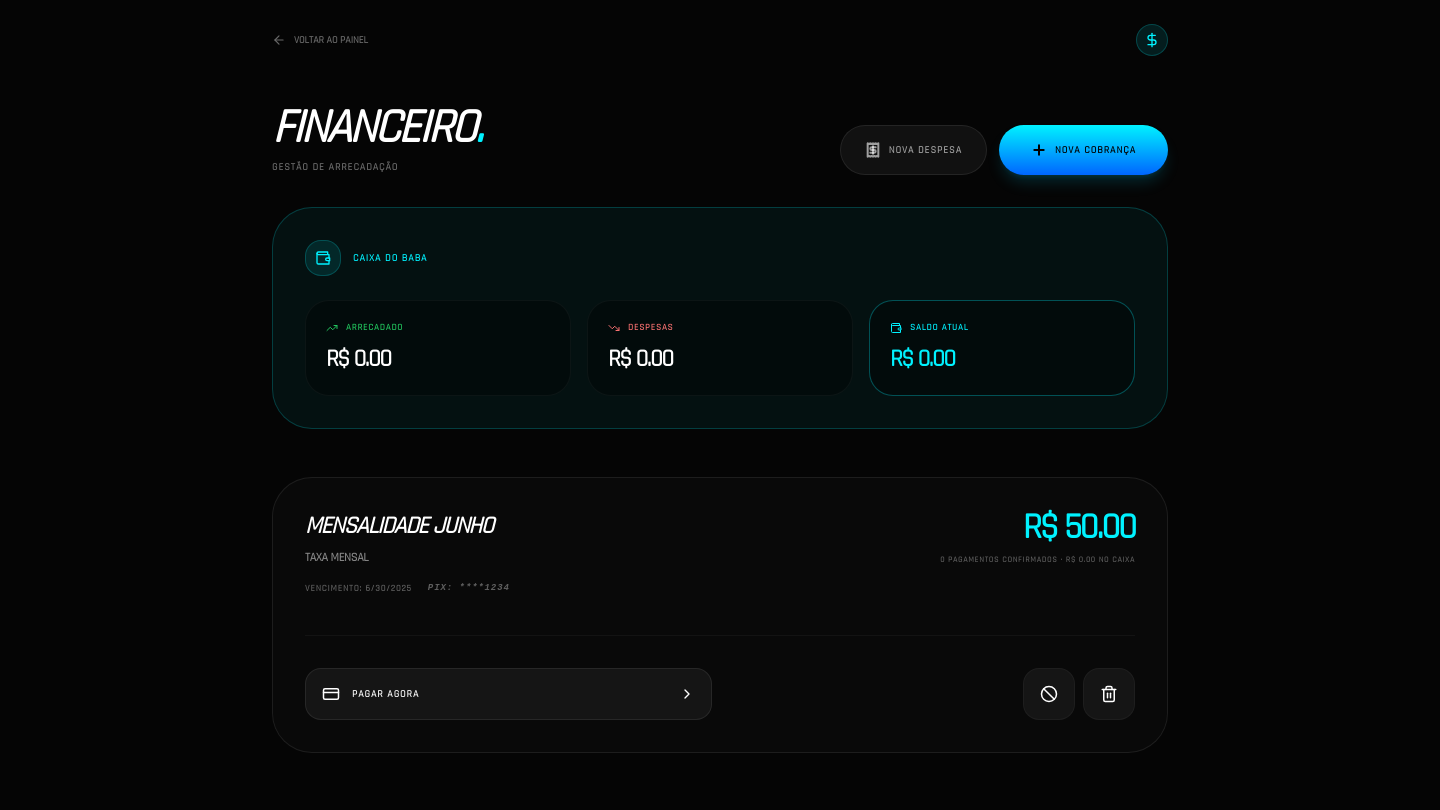
FinancialPage — presidente: excluir cobrança › cancela exclusão ao clicar em Cancelar no modal
The image size is (1440, 810).
Expected: the heading "MENSALIDADE JUNHO" is shown, x1=305 y1=510 x2=493 y2=542
Click the 6th button at (1109, 694), box x1=1083 y1=668 x2=1135 y2=720
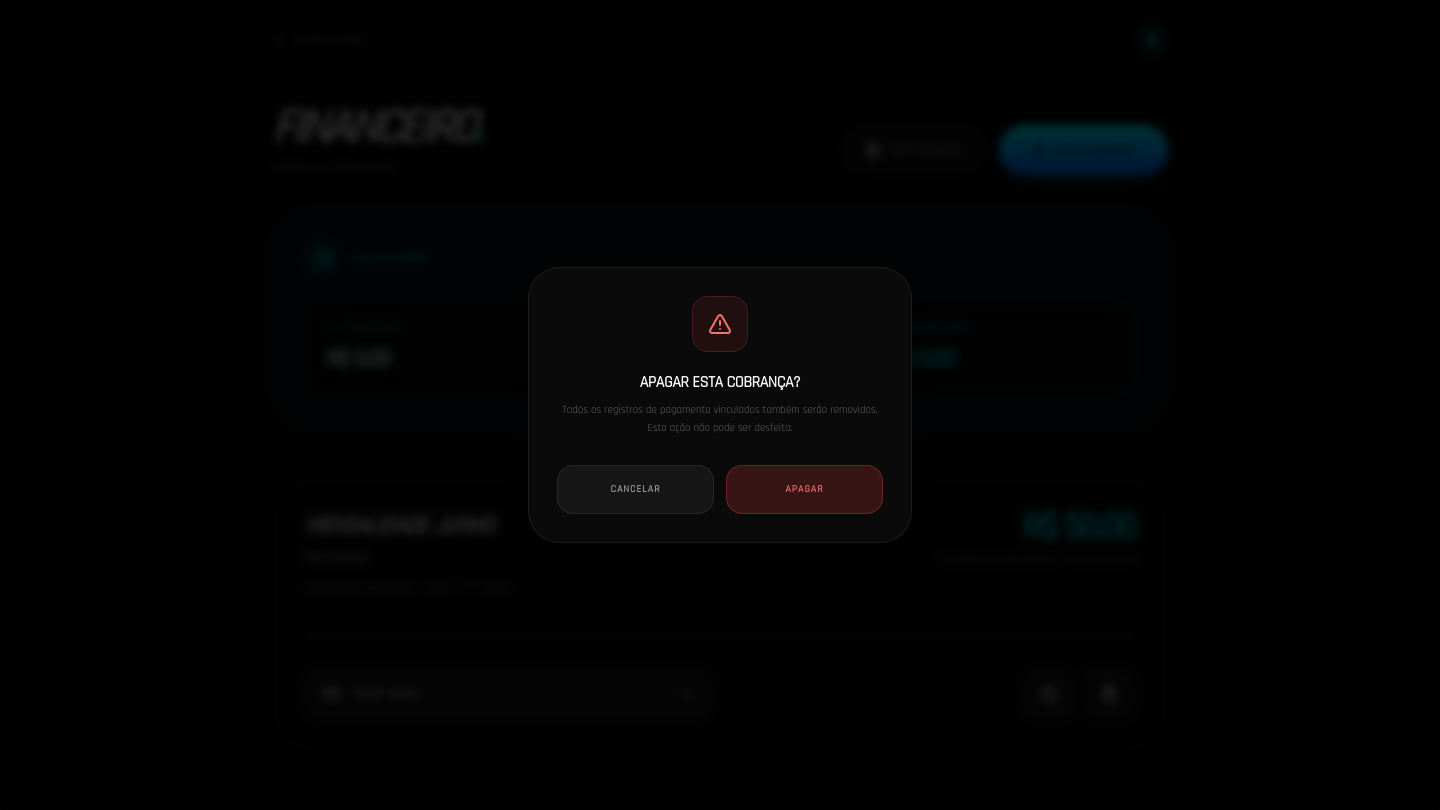
Result: the button "Cancelar" is shown
Click the button "Cancelar" at (636, 490), box x1=557 y1=465 x2=714 y2=514
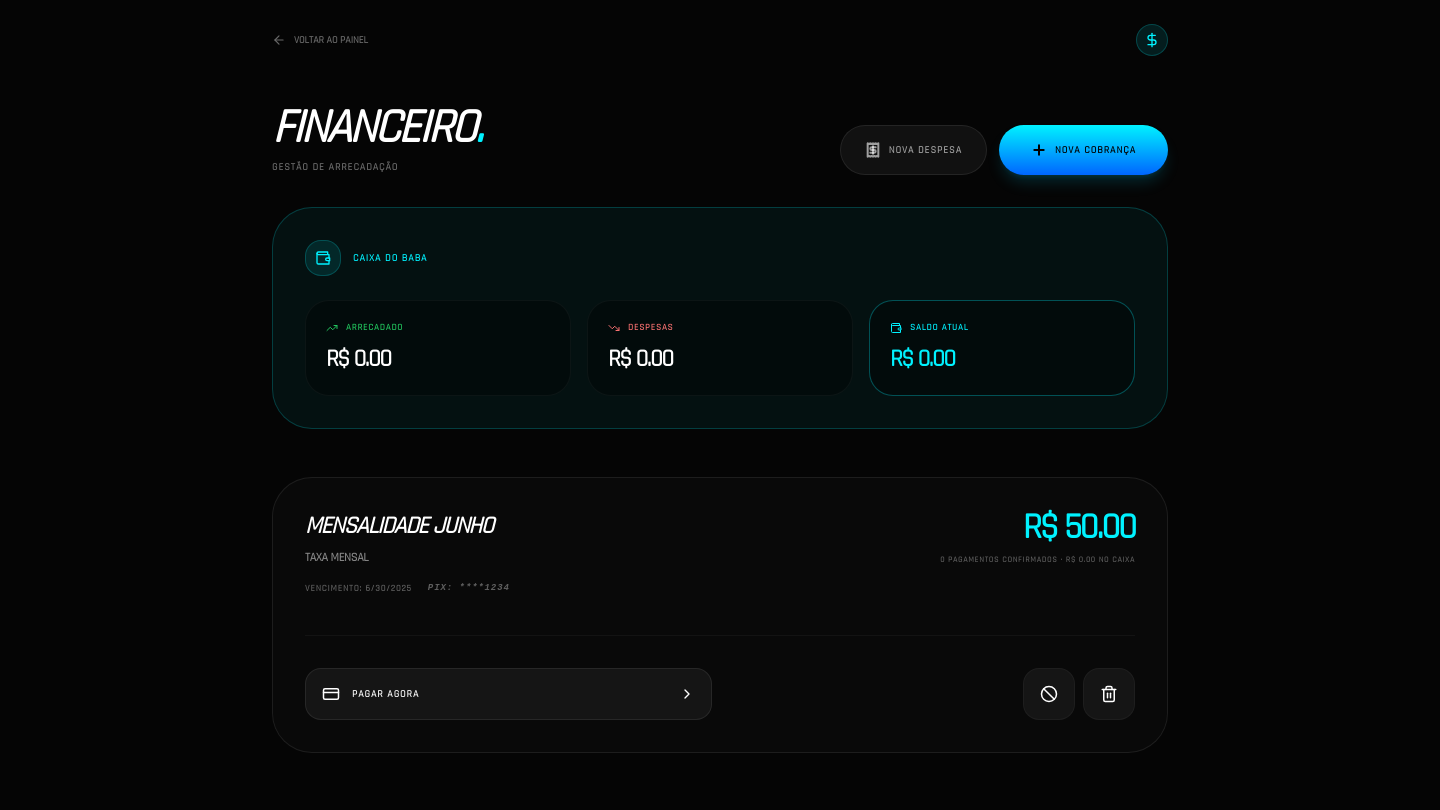
Result: the text "Apagar esta cobrança?" is gone
